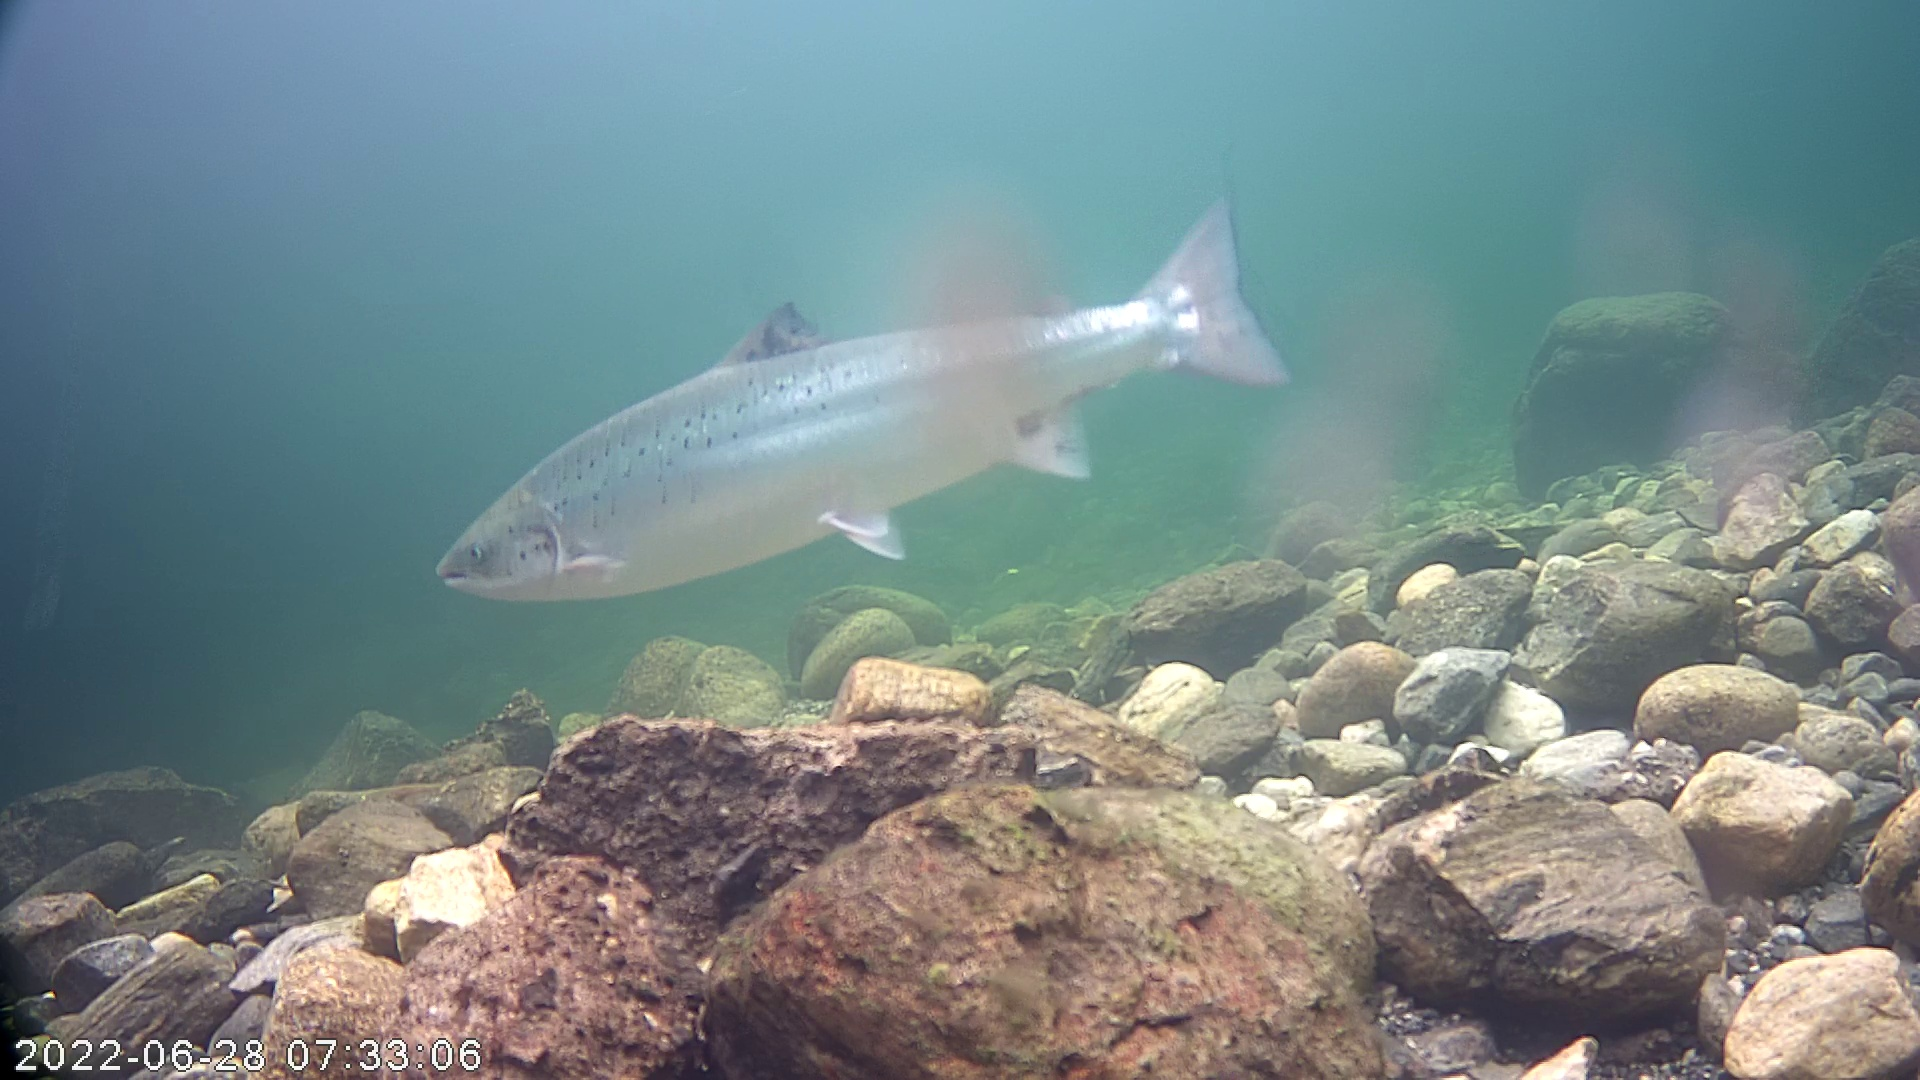salmon: (427, 137, 1315, 626)
